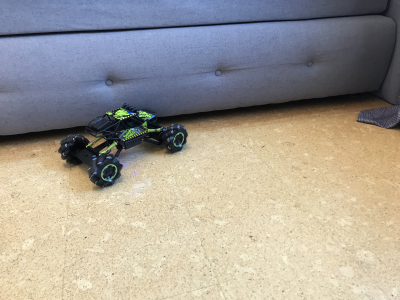remote control car: (53, 98, 190, 189)
